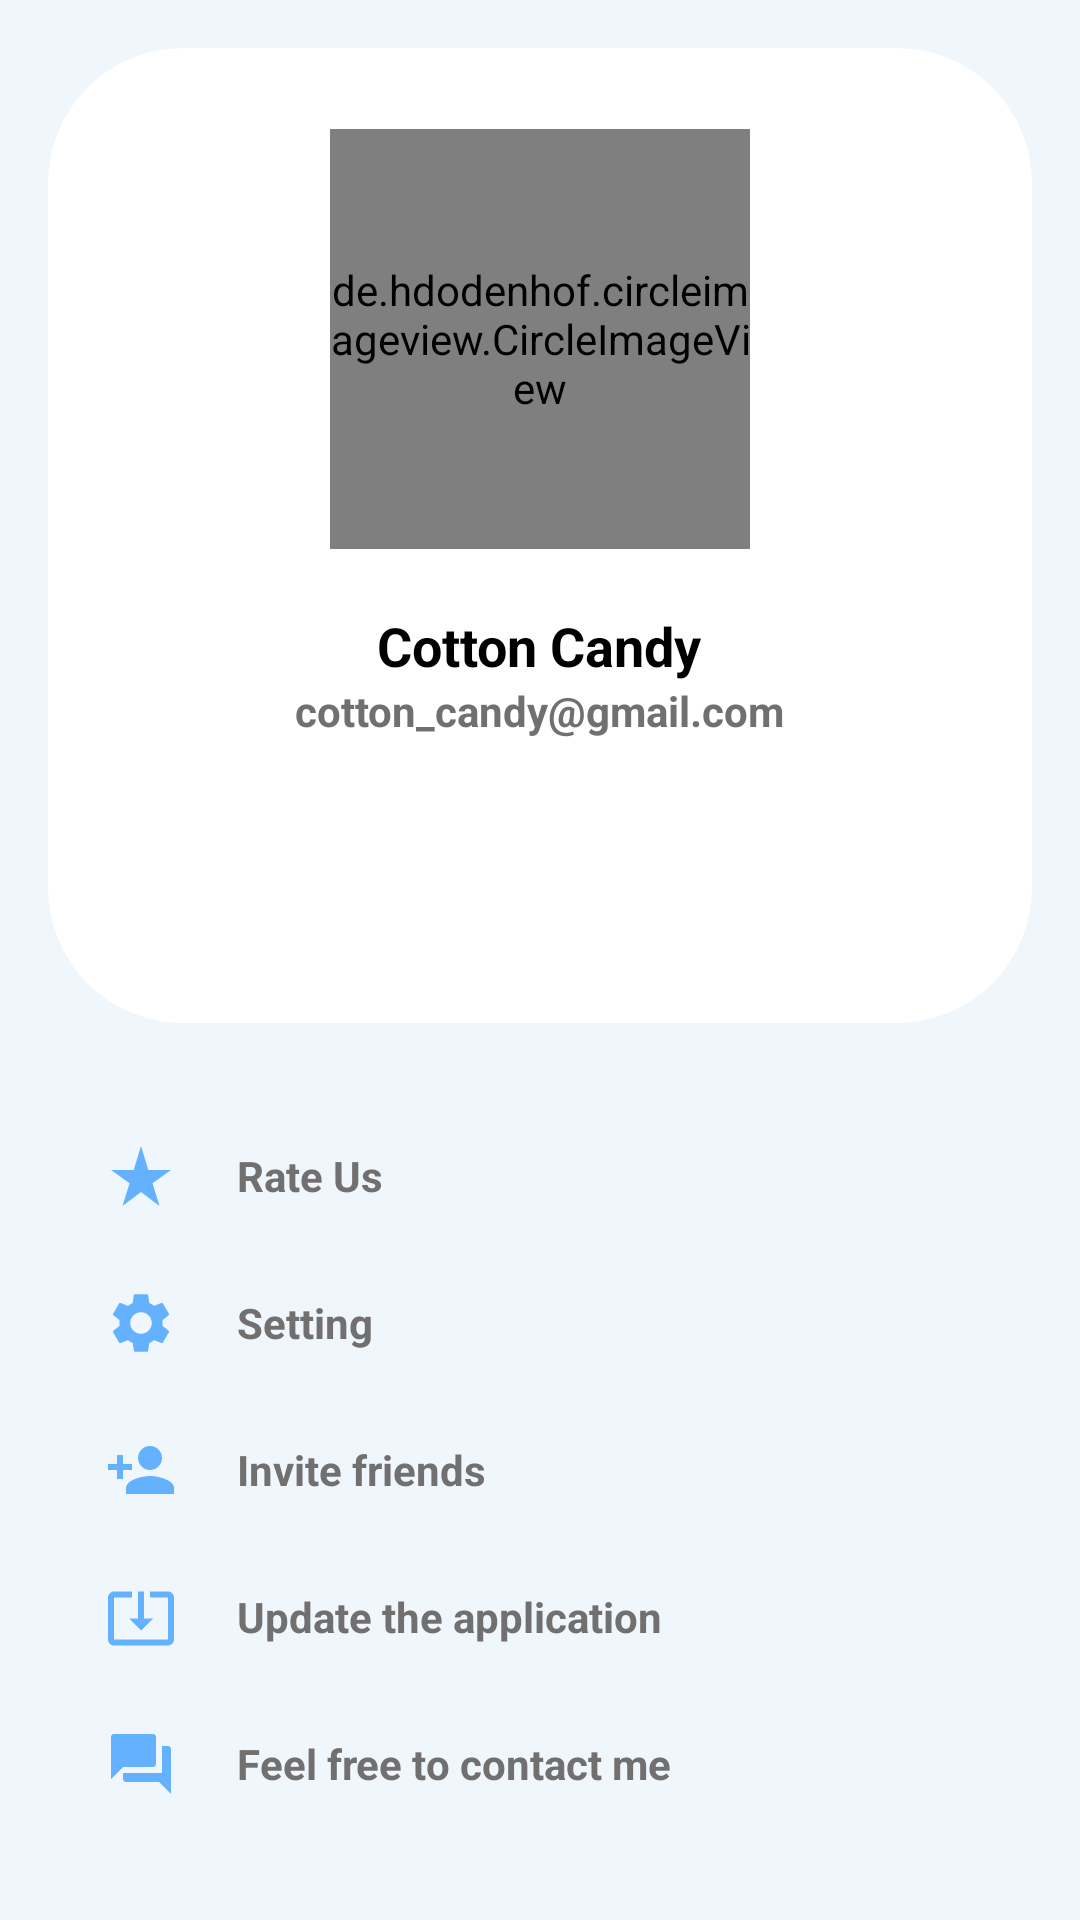

Where icons sit on this 1080px x 1920px app screen, as (x1=x1, y1=y1, x2=x2, y2=y2):
forum: (x1=111, y1=1734, x2=171, y2=1794)
person add: (x1=108, y1=1446, x2=174, y2=1494)
star: (x1=111, y1=1147, x2=171, y2=1206)
system update: (x1=108, y1=1591, x2=174, y2=1646)
